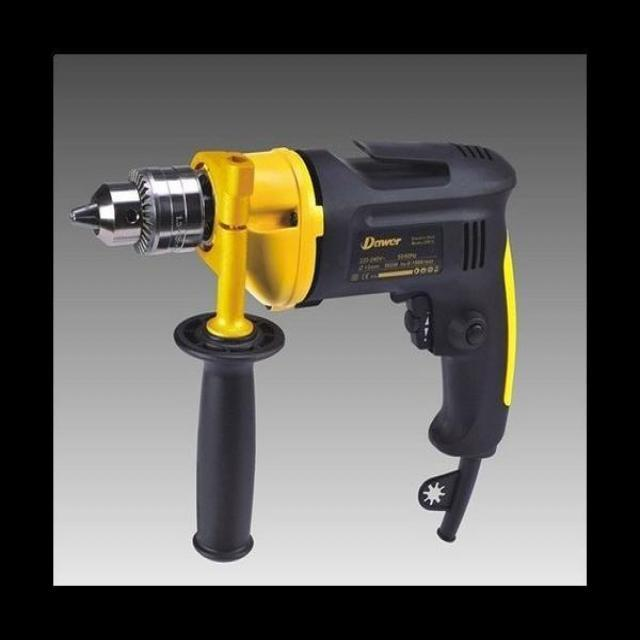drill: (70, 137, 516, 563)
